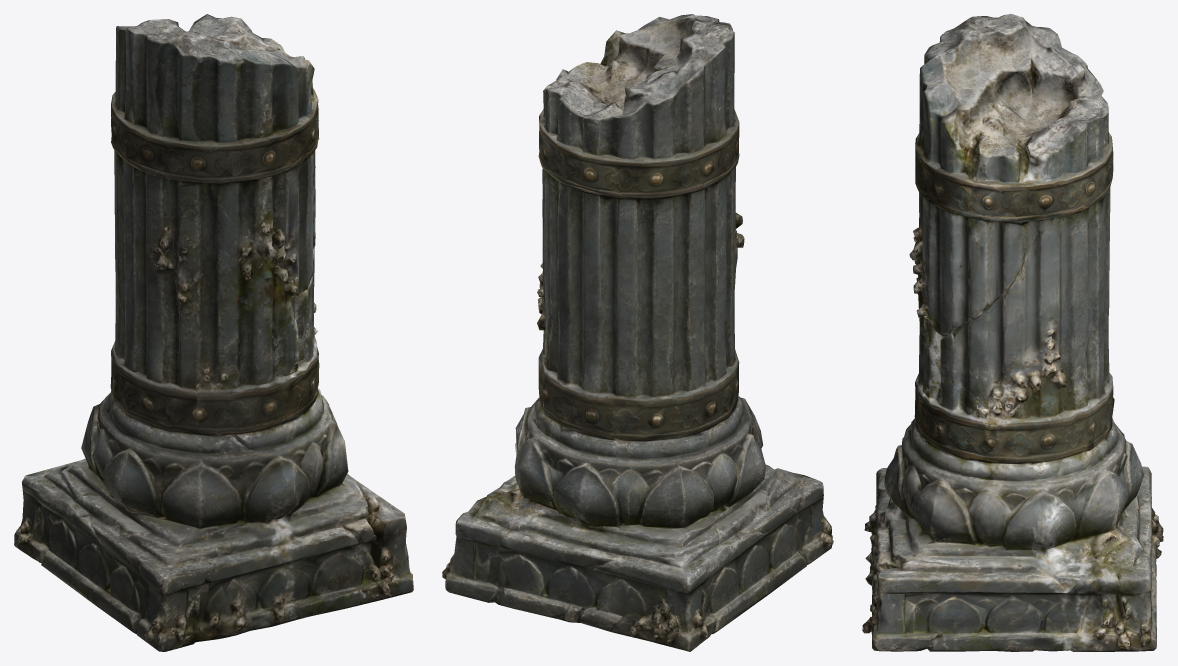
File: T17_pillar_lo.glb
3 views of the same model, side by side, from view 1: azimuth 30°, elevation 25°; view 2: azimuth 150°, elevation 25°; view 3: azimuth 270°, elevation 25° (orthographic). The views are drawn at different scales.
Visible parts, largest first — view 1: tripo_node_90b1bef0-269e-46ae-b1db-df39216d0a1a; view 2: tripo_node_90b1bef0-269e-46ae-b1db-df39216d0a1a; view 3: tripo_node_90b1bef0-269e-46ae-b1db-df39216d0a1a.
Part boxes in pixels (left/top/right/bottom): tripo_node_90b1bef0-269e-46ae-b1db-df39216d0a1a: left=14, top=14, right=413, bottom=651; tripo_node_90b1bef0-269e-46ae-b1db-df39216d0a1a: left=442, top=14, right=833, bottom=651; tripo_node_90b1bef0-269e-46ae-b1db-df39216d0a1a: left=862, top=14, right=1163, bottom=651.
Size of the model in its own units: 0.4911 by 0.9787 by 0.4911.
1 material, 1 textured.
